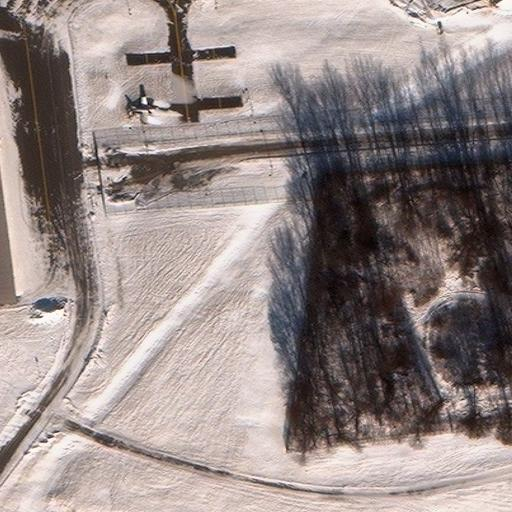Small Civil Transport: (128, 96, 156, 124)
